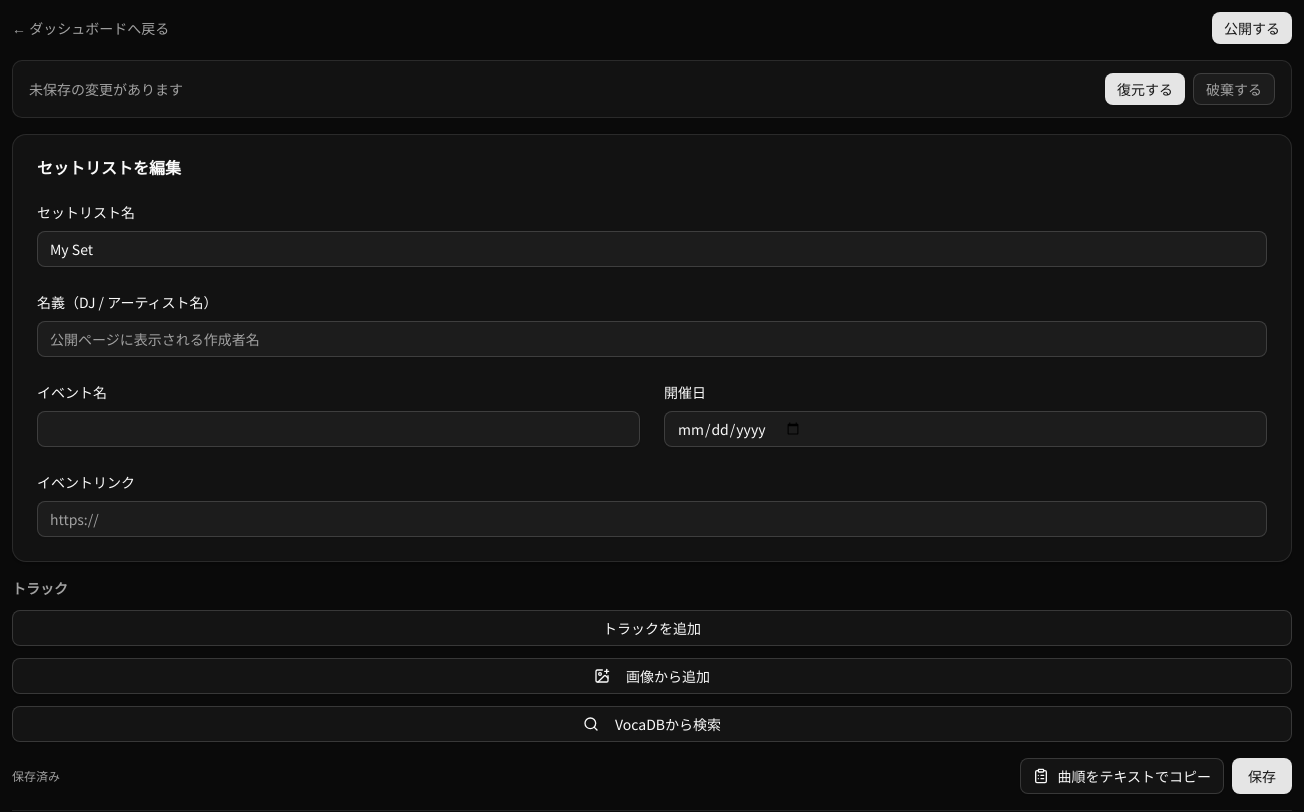
Scenario: SetlistEditor 未保存の下書き › puts the draft back into the form when the DJ restores it
Expected: the text "未保存の変更があります" is shown, [29,79,183,99]
Click the button "復元する": (1145, 89) [1105,73,1185,105]
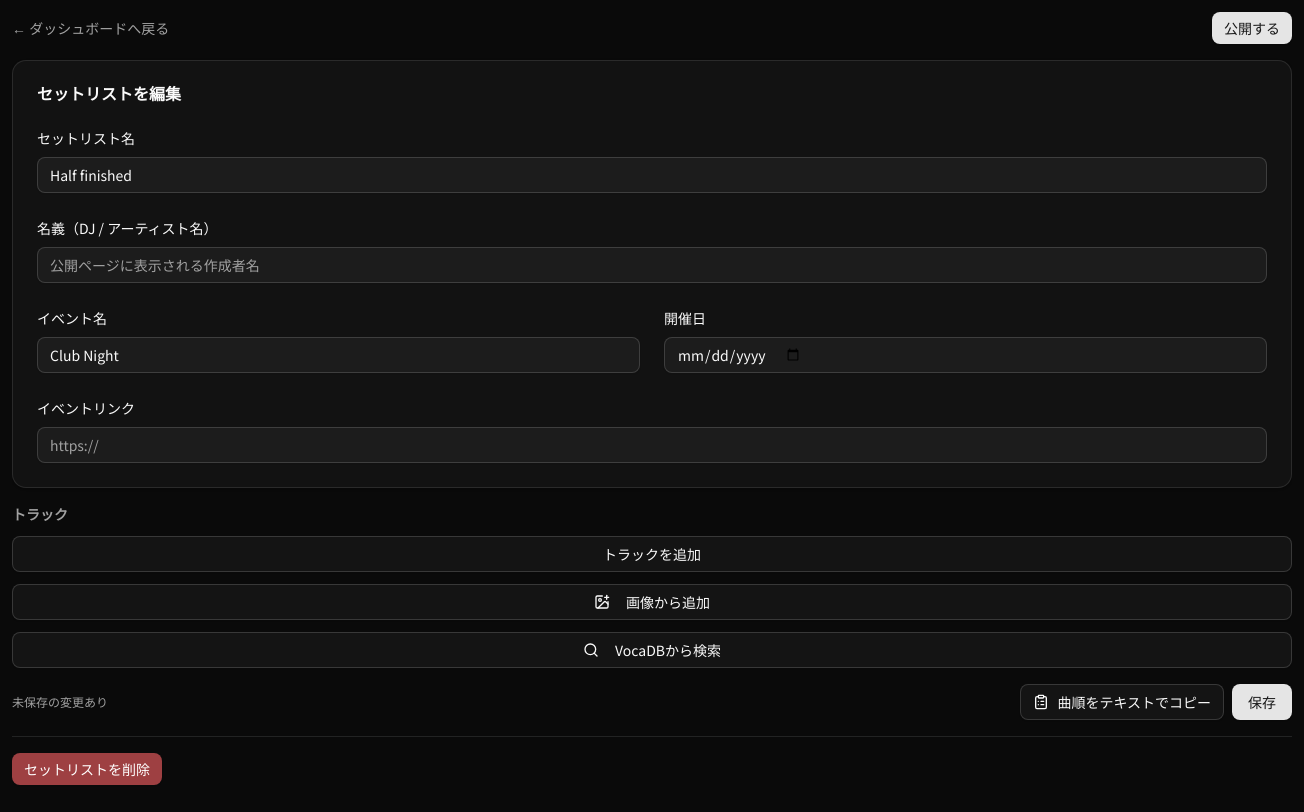
Now the field labelled "セットリスト名" holds "Half finished", box [37,157,1267,193]
Now the field labelled "イベント名" holds "Club Night", box [37,337,640,373]
Now the text "未保存の変更があります" is gone
